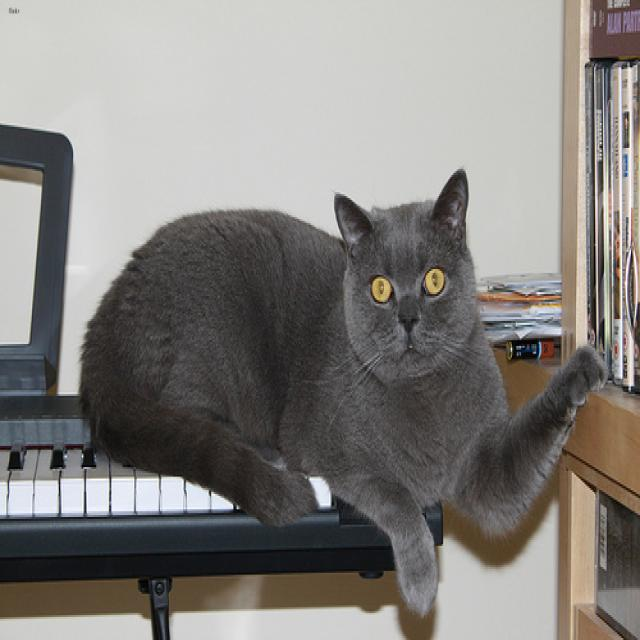cat: (332, 165, 473, 375)
